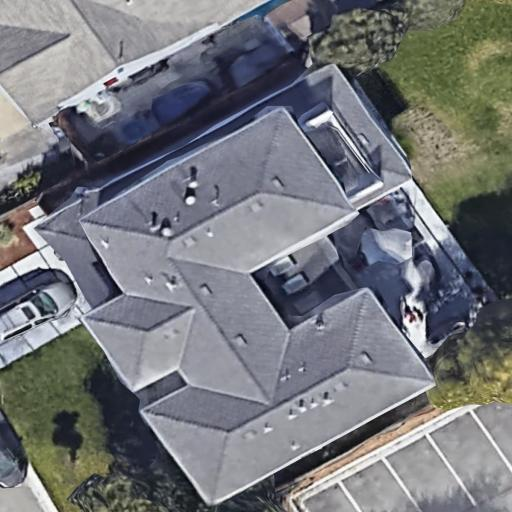Slope-Roof: (78, 108, 439, 506)
